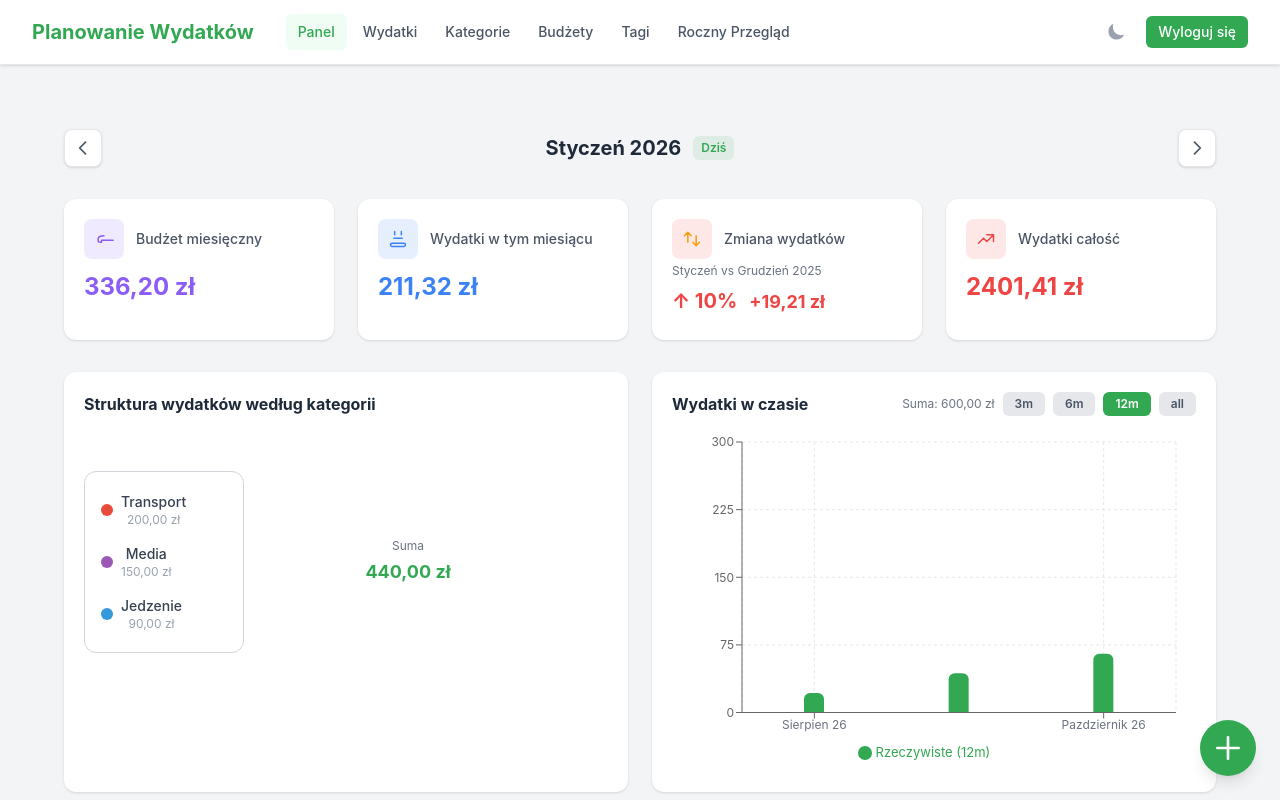
Test case: month navigation › the previous month wraps to December of the prior year in January
The width and height of the screenshot is (1280, 800).
Check: the text "Budżet miesięczny" is shown, box [136,229,262,249]
Click the button named "poprzedni miesiąc" at (83, 148), box [64,129,102,167]
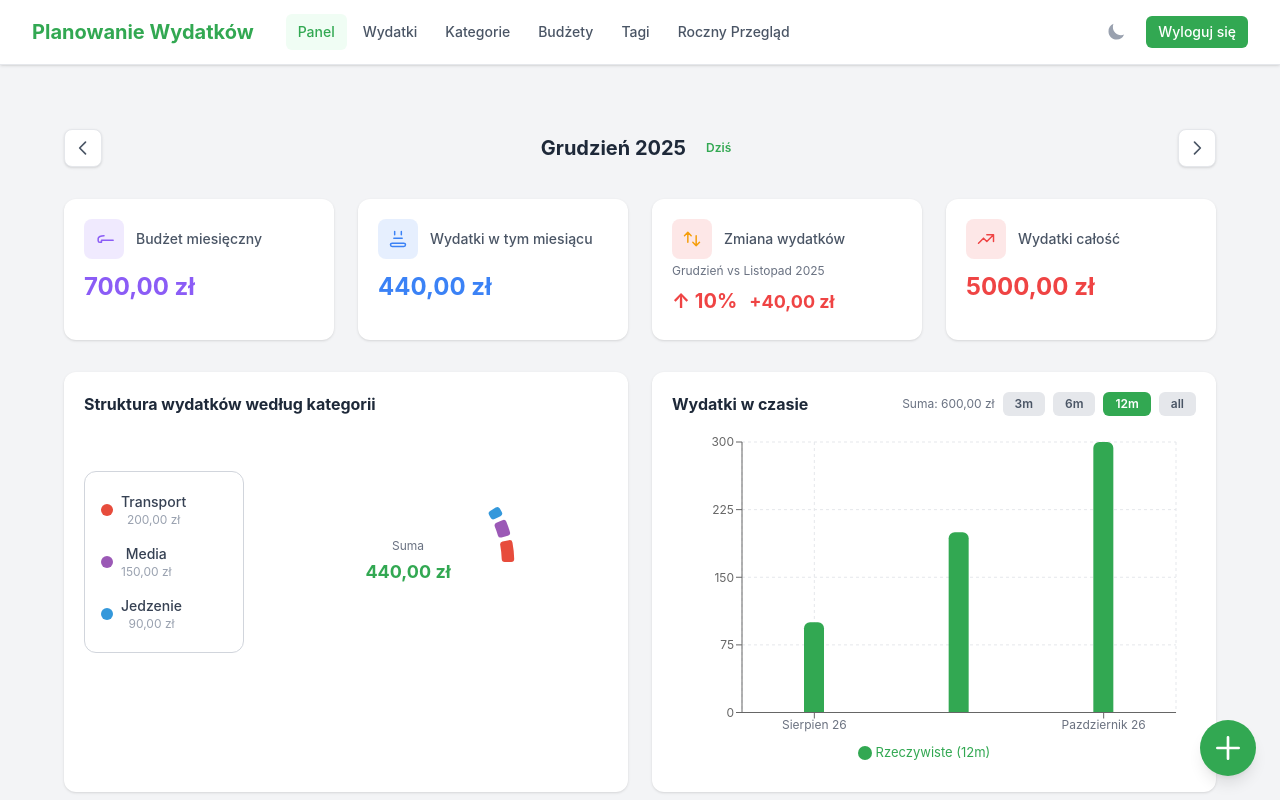
Check: the heading "Grudzień 2025" is shown, box [541,134,686,162]
